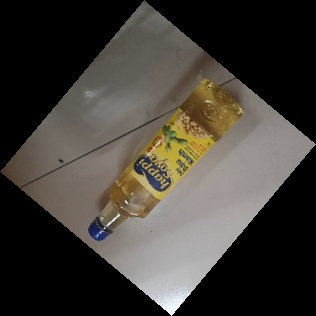Happy Soya: (82, 77, 245, 246)
